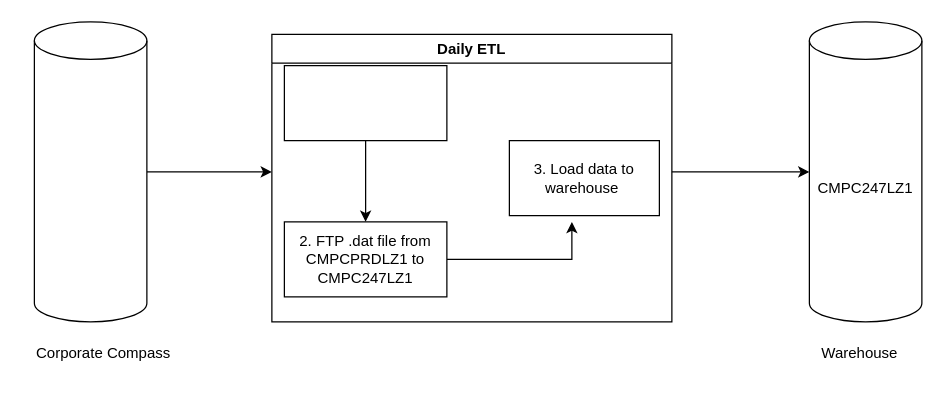
This 944x394 diagram has some shape labels left out. The centre of each missing label's shape, as x and y in pixels:
1. Extract data and Create .dat file in UNIX folder on CMPCPRDLZ1: point (365, 102)
CMPCPRDLZ1: point (90, 171)
